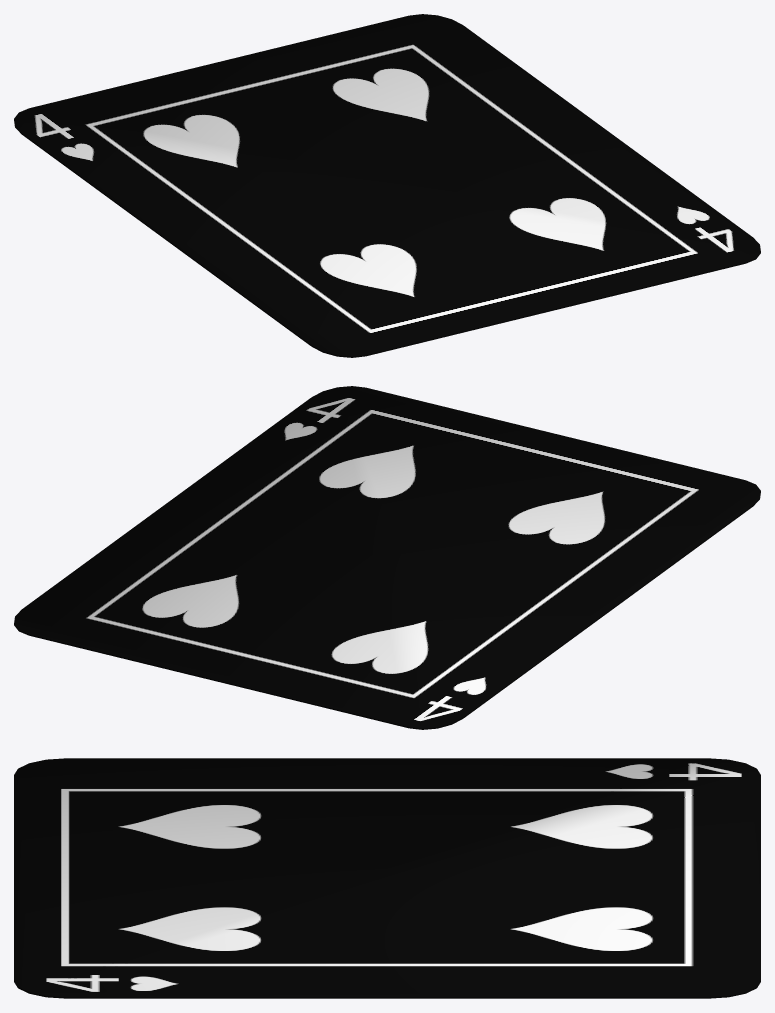
The model's file is Quatre_de_coeur.gltf.
3 renders of one model, top to bottom at view 1: azimuth 30°, elevation 25°; view 2: azimuth 150°, elevation 25°; view 3: azimuth 270°, elevation 25°, orthographic. The views are drawn at different scales.
Visible parts, largest first — view 1: Plane.001; view 2: Plane.001; view 3: Plane.001.
Part boxes in pixels (x1,y1,x2,y2): Plane.001: (14, 14, 760, 357); Plane.001: (14, 386, 760, 729); Plane.001: (14, 758, 760, 998).
Size of the model in its own units: 3.59 by 0.01 by 4.74.
2 materials, 2 textured.
